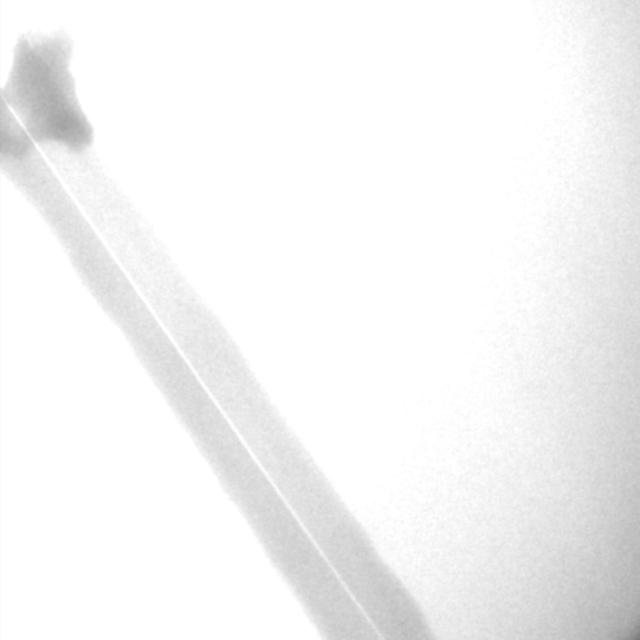broken arc: (1, 94, 383, 637)
